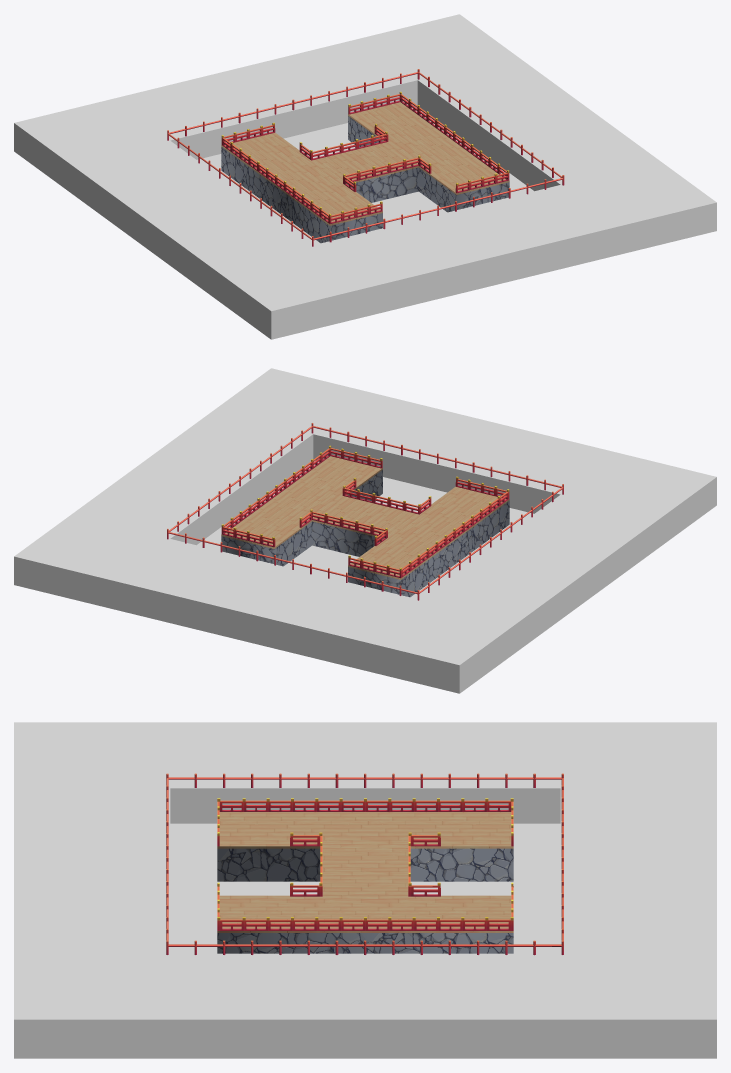
File: Battle_Stage 25.fbx
3 views of the same model, one above another, from view 1: azimuth 30°, elevation 25°; view 2: azimuth 150°, elevation 25°; view 3: azimuth 270°, elevation 25° (orthographic). The views are drawn at different scales.
Visible parts, largest first — view 1: Plane.061, Platform_Cube__1_.007, Cube.102, Cube.088; view 2: Plane.061, Platform_Cube__1_.007, Cube.102, Cube.088; view 3: Plane.061, Platform_Cube__1_.007, Cube.102, Cube.088.
Boxes of the visible parts, x1=… form: Plane.061: x1=14, y1=14, x2=716, y2=339; Platform_Cube__1_.007: x1=221, y1=102, x2=509, y2=243; Cube.102: x1=221, y1=91, x2=509, y2=224; Cube.088: x1=167, y1=69, x2=564, y2=246; Plane.061: x1=14, y1=368, x2=716, y2=693; Platform_Cube__1_.007: x1=221, y1=456, x2=509, y2=597; Cube.102: x1=221, y1=445, x2=509, y2=578; Cube.088: x1=167, y1=423, x2=563, y2=600; Plane.061: x1=14, y1=722, x2=716, y2=1058; Platform_Cube__1_.007: x1=217, y1=812, x2=513, y2=953; Cube.102: x1=217, y1=798, x2=513, y2=930; Cube.088: x1=166, y1=773, x2=563, y2=955.
Bounding box in the file's own units: 16355 × 1346 × 16355.
